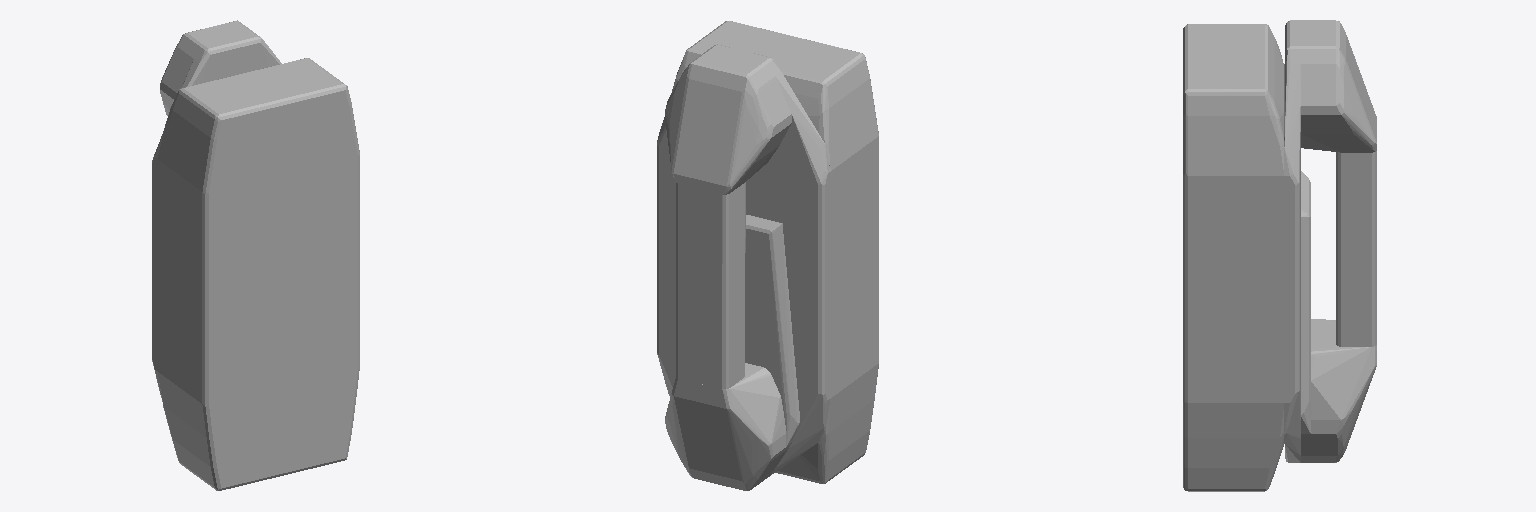
The robot description file, URDF, robot "root":
<robot name="root">
  <link name="link_coacd_convex_piece_0">
    <inertial>
      <origin xyz="0 0 0" rpy="0 0 0"/>
      <inertia ixx="1.28E-02" ixy="-3.32E-06" ixz="1.43E-06" iyy="1.22E-03" iyz="3.25E-03" izz="1.22E-02"/>
    </inertial>
    <visual>
      <origin xyz="0 0 0" rpy="0 0 0"/>
      <geometry>
        <mesh filename="coacd_convex_piece_0.obj" scale="1.0000E+00 1.0000E+00 1.0000E+00"/>
      </geometry>
      <material name="">
        <color rgba="7.50E-01 7.50E-01 7.50E-01 1"/>
      </material>
    </visual>
    <collision>
      <origin xyz="0 0 0" rpy="0 0 0"/>
      <geometry>
        <mesh filename="coacd_convex_piece_0.obj" scale="1.0000E+00 1.0000E+00 1.0000E+00"/>
      </geometry>
    </collision>
  </link>
  <link name="link_coacd_convex_piece_1">
    <inertial>
      <origin xyz="0 0 0" rpy="0 0 0"/>
      <inertia ixx="1.02E-02" ixy="5.96E-06" ixz="3.86E-07" iyy="1.68E-03" iyz="-1.18E-04" izz="1.24E-02"/>
    </inertial>
    <visual>
      <origin xyz="0 0 0" rpy="0 0 0"/>
      <geometry>
        <mesh filename="coacd_convex_piece_1.obj" scale="1.0000E+00 1.0000E+00 1.0000E+00"/>
      </geometry>
      <material name="">
        <color rgba="7.50E-01 7.50E-01 7.50E-01 1"/>
      </material>
    </visual>
    <collision>
      <origin xyz="0 0 0" rpy="0 0 0"/>
      <geometry>
        <mesh filename="coacd_convex_piece_1.obj" scale="1.0000E+00 1.0000E+00 1.0000E+00"/>
      </geometry>
    </collision>
  </link>
  <joint name="link_coacd_convex_piece_1_joint" type="fixed">
    <origin xyz="0 0 0" rpy="0 0 0"/>
    <parent link="link_coacd_convex_piece_0"/>
    <child link="link_coacd_convex_piece_1"/>
  </joint>
  <link name="link_coacd_convex_piece_2">
    <inertial>
      <origin xyz="0 0 0" rpy="0 0 0"/>
      <inertia ixx="8.91E-02" ixy="4.88E-06" ixz="4.56E-07" iyy="2.70E-02" iyz="1.95E-03" izz="9.15E-02"/>
    </inertial>
    <visual>
      <origin xyz="0 0 0" rpy="0 0 0"/>
      <geometry>
        <mesh filename="coacd_convex_piece_2.obj" scale="1.0000E+00 1.0000E+00 1.0000E+00"/>
      </geometry>
      <material name="">
        <color rgba="7.50E-01 7.50E-01 7.50E-01 1"/>
      </material>
    </visual>
    <collision>
      <origin xyz="0 0 0" rpy="0 0 0"/>
      <geometry>
        <mesh filename="coacd_convex_piece_2.obj" scale="1.0000E+00 1.0000E+00 1.0000E+00"/>
      </geometry>
    </collision>
  </link>
  <joint name="link_coacd_convex_piece_2_joint" type="fixed">
    <origin xyz="0 0 0" rpy="0 0 0"/>
    <parent link="link_coacd_convex_piece_1"/>
    <child link="link_coacd_convex_piece_2"/>
  </joint>
  <link name="link_coacd_convex_piece_3">
    <inertial>
      <origin xyz="0 0 0" rpy="0 0 0"/>
      <inertia ixx="2.65E-03" ixy="-2.51E-08" ixz="1.94E-07" iyy="2.39E-04" iyz="-4.74E-04" izz="2.86E-03"/>
    </inertial>
    <visual>
      <origin xyz="0 0 0" rpy="0 0 0"/>
      <geometry>
        <mesh filename="coacd_convex_piece_3.obj" scale="1.0000E+00 1.0000E+00 1.0000E+00"/>
      </geometry>
      <material name="">
        <color rgba="7.50E-01 7.50E-01 7.50E-01 1"/>
      </material>
    </visual>
    <collision>
      <origin xyz="0 0 0" rpy="0 0 0"/>
      <geometry>
        <mesh filename="coacd_convex_piece_3.obj" scale="1.0000E+00 1.0000E+00 1.0000E+00"/>
      </geometry>
    </collision>
  </link>
  <joint name="link_coacd_convex_piece_3_joint" type="fixed">
    <origin xyz="0 0 0" rpy="0 0 0"/>
    <parent link="link_coacd_convex_piece_2"/>
    <child link="link_coacd_convex_piece_3"/>
  </joint>
  <link name="link_coacd_convex_piece_4">
    <inertial>
      <origin xyz="0 0 0" rpy="0 0 0"/>
      <inertia ixx="1.03E-02" ixy="-1.08E-05" ixz="-4.47E-06" iyy="1.39E-03" iyz="-3.25E-03" izz="9.60E-03"/>
    </inertial>
    <visual>
      <origin xyz="0 0 0" rpy="0 0 0"/>
      <geometry>
        <mesh filename="coacd_convex_piece_4.obj" scale="1.0000E+00 1.0000E+00 1.0000E+00"/>
      </geometry>
      <material name="">
        <color rgba="7.50E-01 7.50E-01 7.50E-01 1"/>
      </material>
    </visual>
    <collision>
      <origin xyz="0 0 0" rpy="0 0 0"/>
      <geometry>
        <mesh filename="coacd_convex_piece_4.obj" scale="1.0000E+00 1.0000E+00 1.0000E+00"/>
      </geometry>
    </collision>
  </link>
  <joint name="link_coacd_convex_piece_4_joint" type="fixed">
    <origin xyz="0 0 0" rpy="0 0 0"/>
    <parent link="link_coacd_convex_piece_3"/>
    <child link="link_coacd_convex_piece_4"/>
  </joint>
  <link name="link_coacd_convex_piece_5">
    <inertial>
      <origin xyz="0 0 0" rpy="0 0 0"/>
      <inertia ixx="2.96E-03" ixy="-2.96E-07" ixz="4.57E-07" iyy="1.83E-03" iyz="1.96E-04" izz="1.33E-03"/>
    </inertial>
    <visual>
      <origin xyz="0 0 0" rpy="0 0 0"/>
      <geometry>
        <mesh filename="coacd_convex_piece_5.obj" scale="1.0000E+00 1.0000E+00 1.0000E+00"/>
      </geometry>
      <material name="">
        <color rgba="7.50E-01 7.50E-01 7.50E-01 1"/>
      </material>
    </visual>
    <collision>
      <origin xyz="0 0 0" rpy="0 0 0"/>
      <geometry>
        <mesh filename="coacd_convex_piece_5.obj" scale="1.0000E+00 1.0000E+00 1.0000E+00"/>
      </geometry>
    </collision>
  </link>
  <joint name="link_coacd_convex_piece_5_joint" type="fixed">
    <origin xyz="0 0 0" rpy="0 0 0"/>
    <parent link="link_coacd_convex_piece_4"/>
    <child link="link_coacd_convex_piece_5"/>
  </joint>
</robot>

--- Facts derived from the render (not from the file) ---
Views: 3 orthographic renders of the robot side by side, from view 1: azimuth 30°, elevation 25°; view 2: azimuth 150°, elevation 25°; view 3: azimuth 270°, elevation 25°.
Robot: root — 6 links, 5 joints (5 fixed); root link link_coacd_convex_piece_0; default pose: every joint at zero.
Links seen in each view (by area): view 1: link_coacd_convex_piece_2, link_coacd_convex_piece_1, link_coacd_convex_piece_0; view 2: link_coacd_convex_piece_2, link_coacd_convex_piece_1, link_coacd_convex_piece_0, link_coacd_convex_piece_5, link_coacd_convex_piece_4, link_coacd_convex_piece_3; view 3: link_coacd_convex_piece_2, link_coacd_convex_piece_0, link_coacd_convex_piece_5, link_coacd_convex_piece_1, link_coacd_convex_piece_4, link_coacd_convex_piece_3.
Boxes of the visible links, x1,y1,x2,y2 form: link_coacd_convex_piece_2: [157, 58, 359, 490]; link_coacd_convex_piece_1: [152, 33, 281, 397]; link_coacd_convex_piece_0: [160, 20, 255, 115]; link_coacd_convex_piece_2: [671, 21, 878, 483]; link_coacd_convex_piece_1: [657, 44, 830, 476]; link_coacd_convex_piece_0: [665, 48, 791, 194]; link_coacd_convex_piece_5: [676, 182, 745, 388]; link_coacd_convex_piece_4: [665, 363, 785, 490]; link_coacd_convex_piece_3: [745, 215, 799, 479]; link_coacd_convex_piece_2: [1183, 24, 1283, 491]; link_coacd_convex_piece_0: [1301, 20, 1376, 152]; link_coacd_convex_piece_5: [1336, 151, 1376, 346]; link_coacd_convex_piece_1: [1284, 20, 1300, 462]; link_coacd_convex_piece_4: [1311, 319, 1376, 462]; link_coacd_convex_piece_3: [1301, 171, 1310, 462].
Size in the robot's own frame: 0.7181 by 0.7183 by 1.74 metres.
Meshes: 6 distinct files referenced, 6 mesh visuals loaded (6 OBJ).
